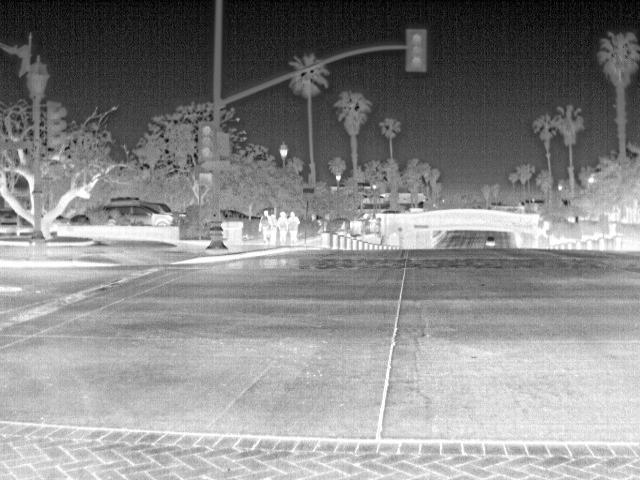car: (101, 203, 181, 226), (220, 206, 262, 220), (485, 236, 498, 246)
person: (273, 209, 291, 242), (258, 208, 275, 242), (287, 210, 303, 244)
